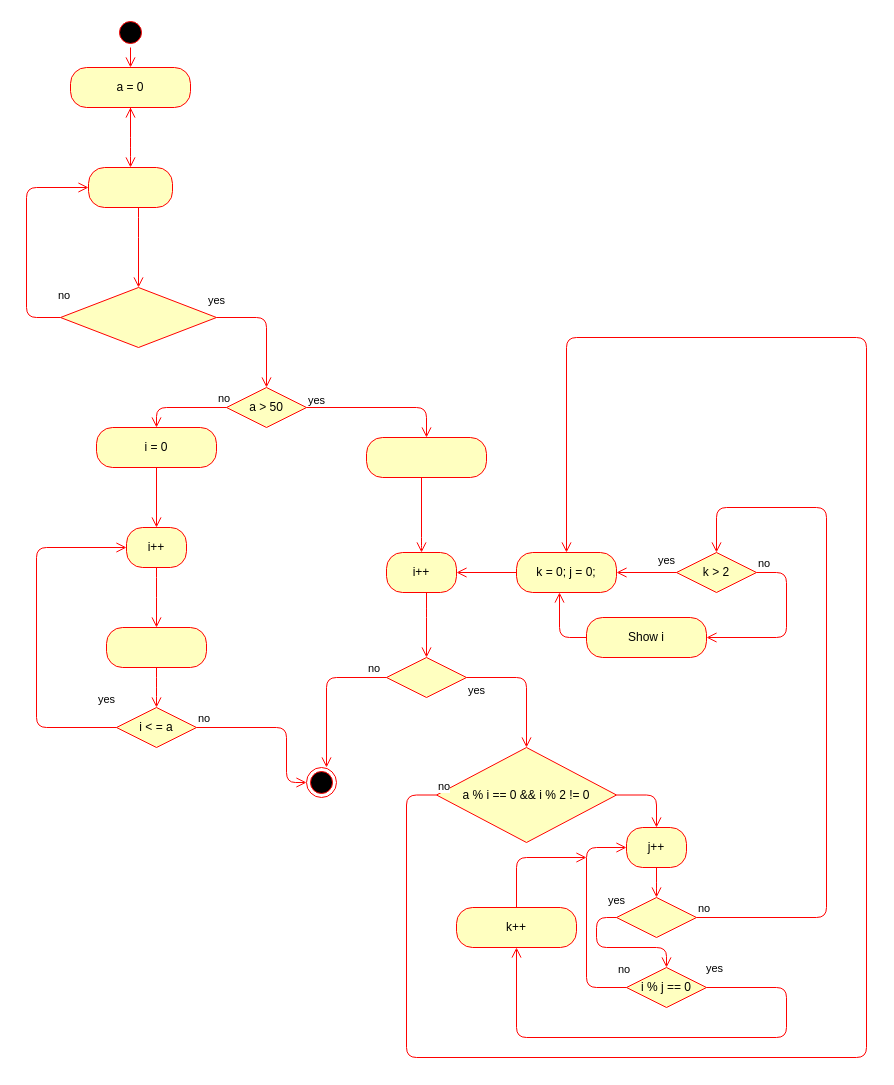
The diagram is 894 pixels wide and 1085 high, and some of its shapes have lost their labels. The shapes that lost their labels are listed below. From the top down, each one's centre as x and y in pixels, then its label:
At pixel 130 187: "Get a".
At pixel 138 317: "a >= 0 && a % 2 ==0".
At pixel 426 457: "i = 0; k = 0; j = 0;".
At pixel 156 647: "Show i/3".
At pixel 426 677: "i < = (a/2)".
At pixel 656 917: "j <= (i/2)".
